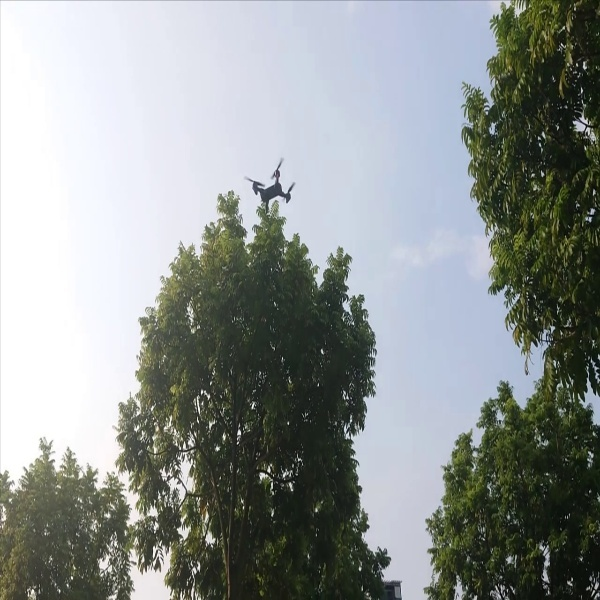drone: (241, 162, 301, 217)
